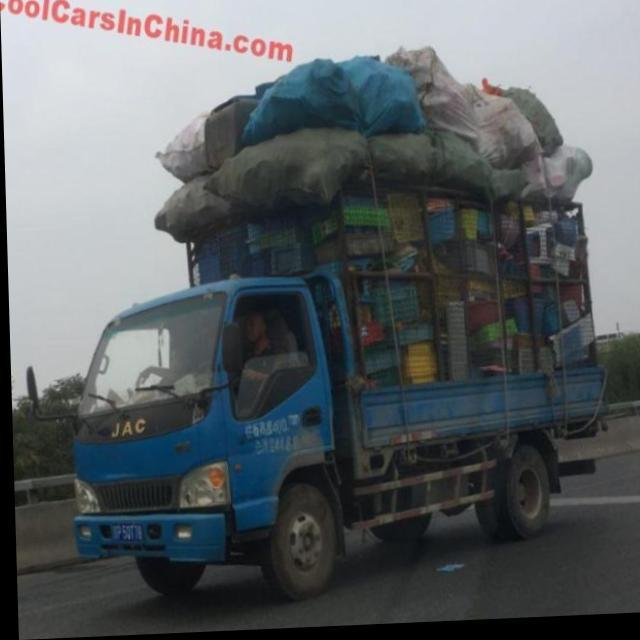uncovered: (128, 38, 640, 508)
